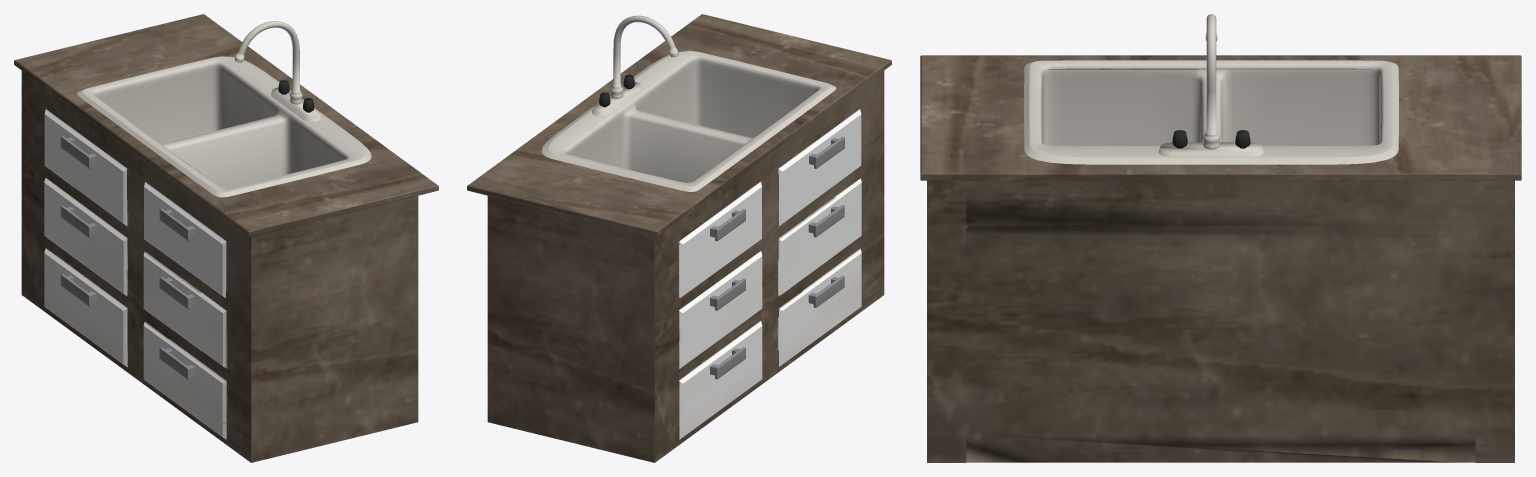
The picture shows the model from 3 angles, left to right: view 1: azimuth 30°, elevation 25°; view 2: azimuth 150°, elevation 25°; view 3: azimuth 270°, elevation 25°; orthographic projection. The views are drawn at different scales.
Visible parts, largest first — view 1: kitchen_island_3; view 2: kitchen_island_3; view 3: kitchen_island_3.
Part boxes in pixels (bbox=[...]): kitchen_island_3: bbox=[14, 14, 438, 462]; kitchen_island_3: bbox=[467, 14, 891, 462]; kitchen_island_3: bbox=[920, 14, 1521, 462].
Bounding box in the file's own units: 2.47 × 3.93 × 5.1.
1 material, 1 textured.
